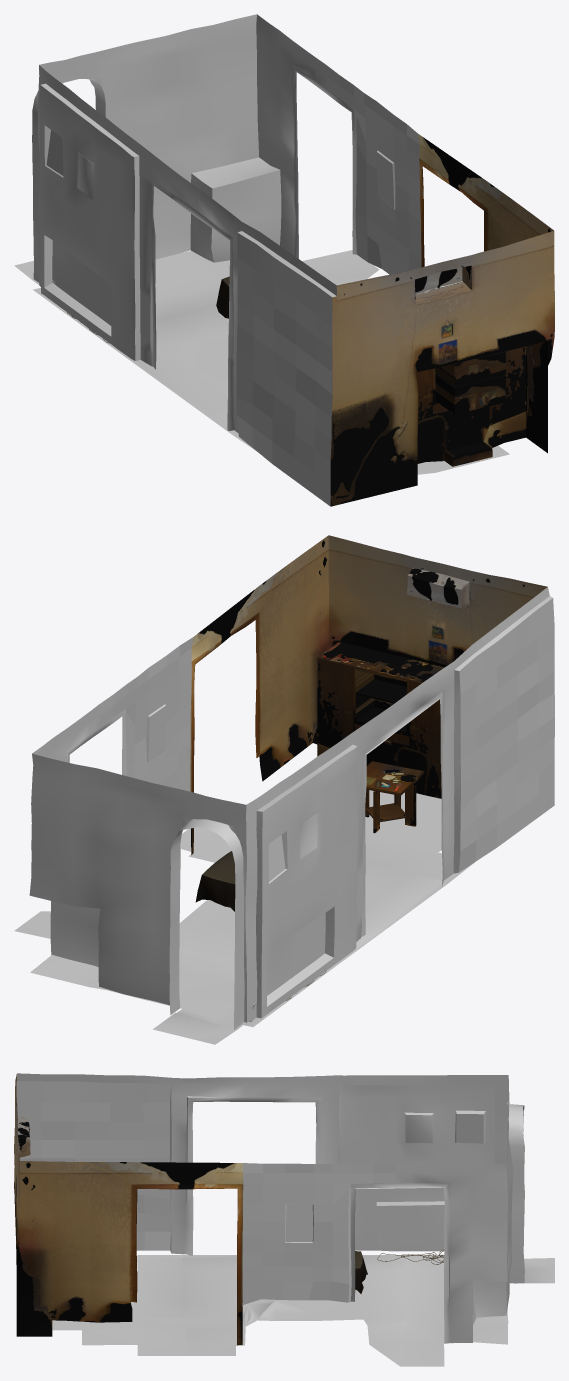
Rendered from RoomBigDraft.fbx.
The picture shows the model from 3 angles, top to bottom: view 1: azimuth 30°, elevation 25°; view 2: azimuth 150°, elevation 25°; view 3: azimuth 270°, elevation 25°; orthographic projection. The views are drawn at different scales.
Visible parts, largest first — view 1: Wall3, Wall1, Wall2, Floor; view 2: Wall3, Wall2, Wall1, Floor, TableSmall, MainTable; view 3: Wall3, Wall2, Floor, Wall1, MainTable.
Part boxes in pixels (x1,y1,x2,y2): Wall3: (37, 65, 336, 506); Wall1: (330, 134, 554, 506); Wall2: (32, 14, 421, 282); Floor: (14, 250, 509, 474); Wall3: (245, 587, 554, 1022); Wall2: (29, 637, 246, 1029); Wall1: (190, 535, 547, 854); Floor: (14, 790, 474, 1044); TableSmall: (365, 761, 424, 833); MainTable: (195, 851, 235, 911); Wall3: (16, 1073, 508, 1255); Wall2: (242, 1079, 524, 1343); Floor: (52, 1254, 554, 1366); Wall1: (14, 1074, 243, 1345); MainTable: (355, 1251, 367, 1293).
Bounding box in the file's own units: 1243 × 950 × 2511.
